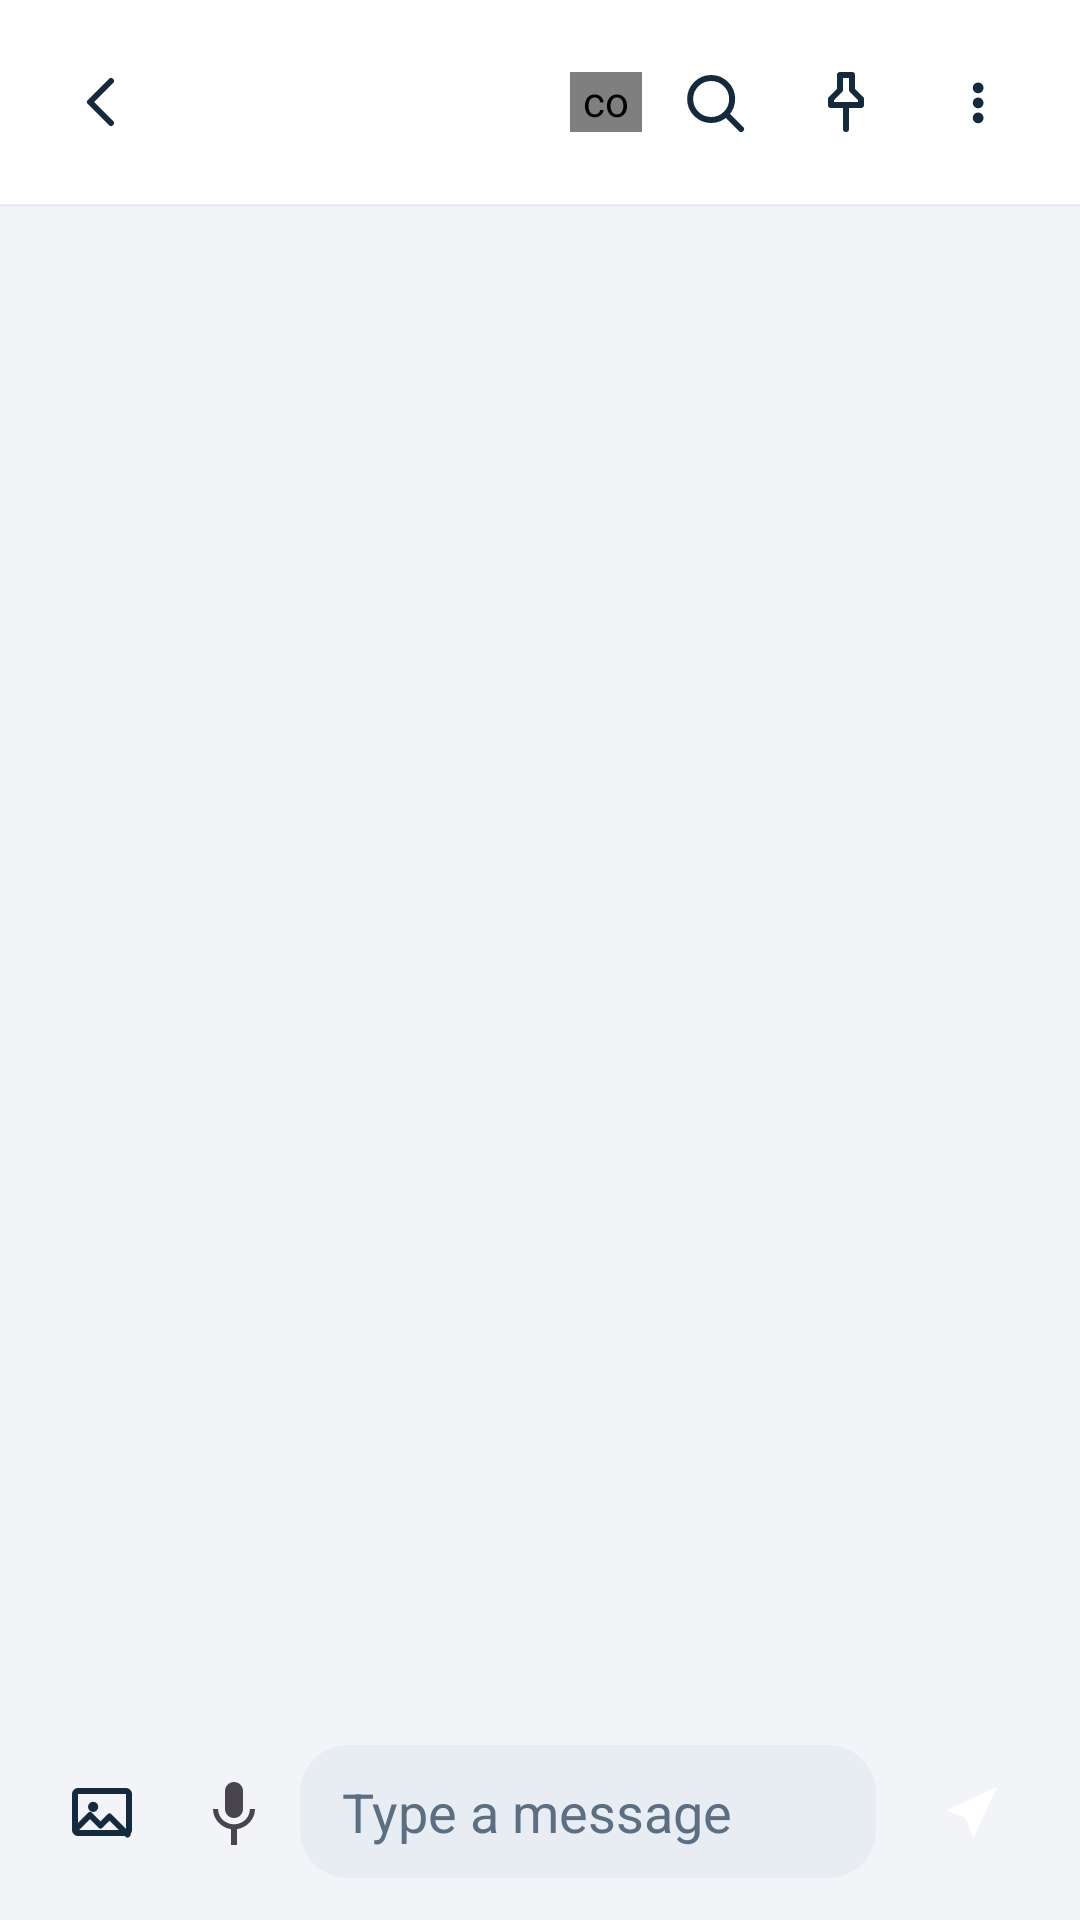

Where to tap for icons on this 1080w x 1920h app screen, as point (x, y):
back: point (100, 102)
More options: point (978, 103)
Pinned messages: point (846, 102)
Search: point (715, 103)
Share image: point (102, 1813)
Voice note: point (234, 1813)
